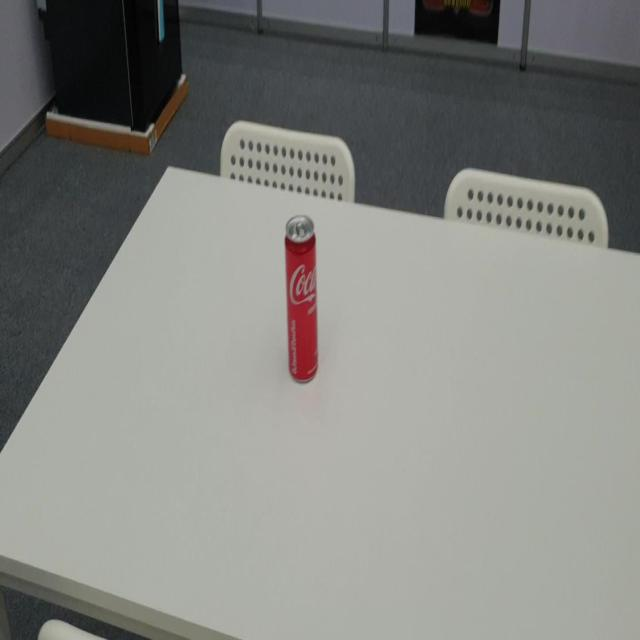coca-cola: (284, 213, 318, 388)
